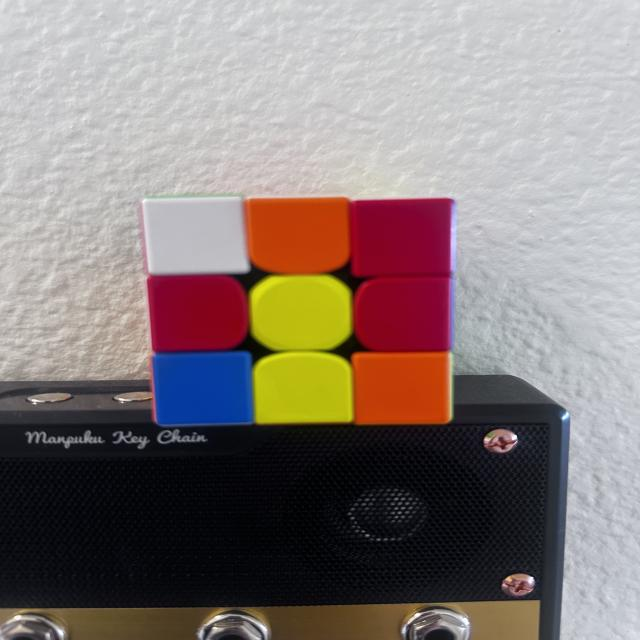sticker: (139, 194, 253, 278), (350, 197, 457, 281), (244, 198, 356, 278), (146, 274, 252, 356), (248, 276, 358, 354), (352, 278, 454, 356), (252, 351, 358, 425), (151, 352, 254, 427), (352, 353, 454, 427)
